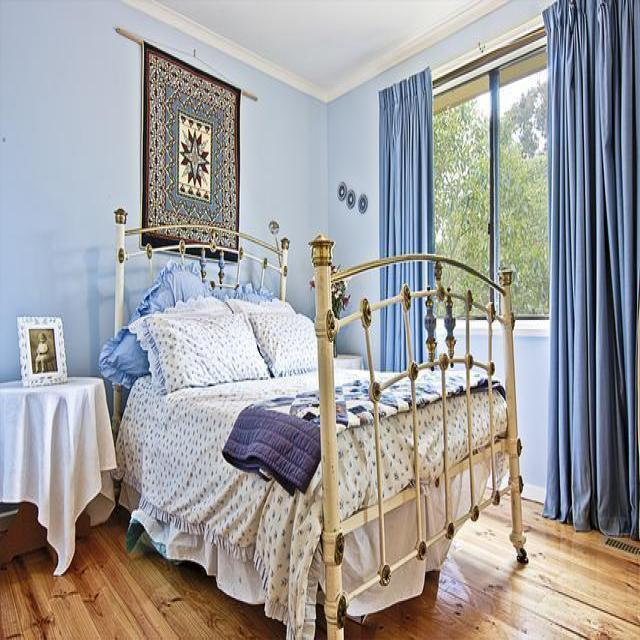bed: (106, 206, 528, 638)
curtains: (541, 0, 639, 539), (377, 65, 434, 372)
table: (0, 374, 117, 575)
window: (429, 29, 550, 326)
